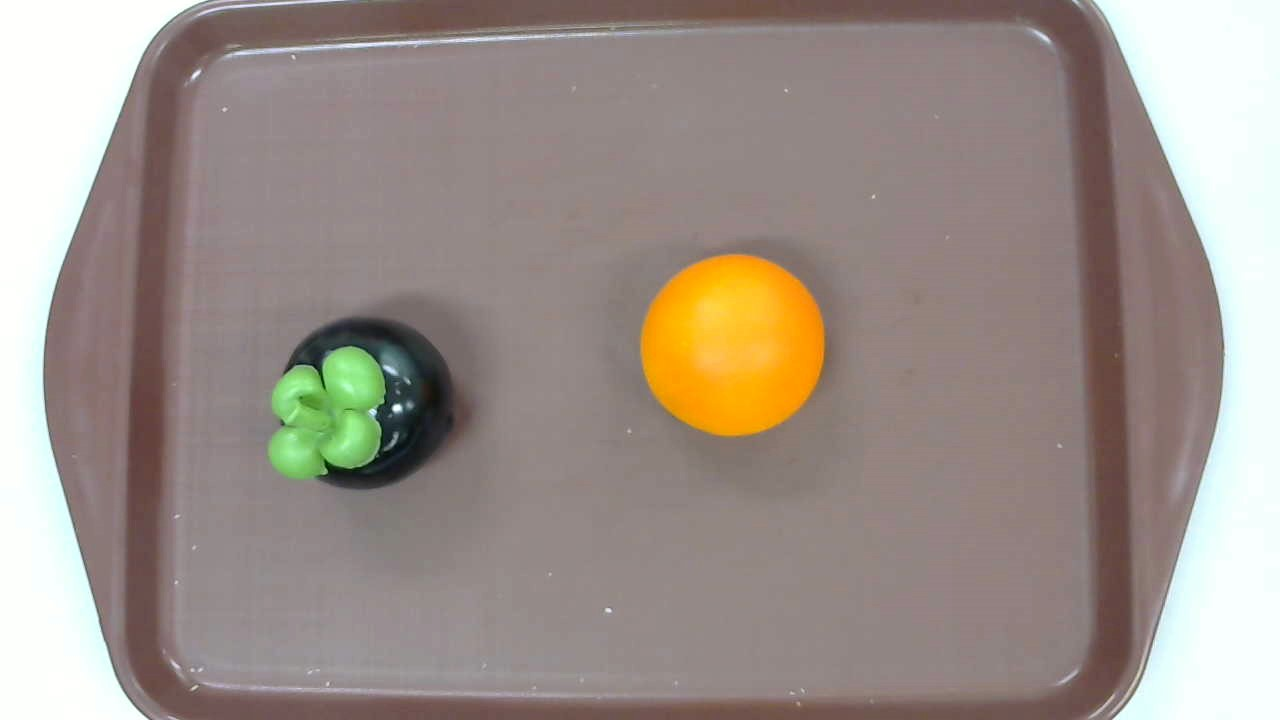bun: (640, 253, 825, 437)
mangosteen: (267, 316, 453, 490)
